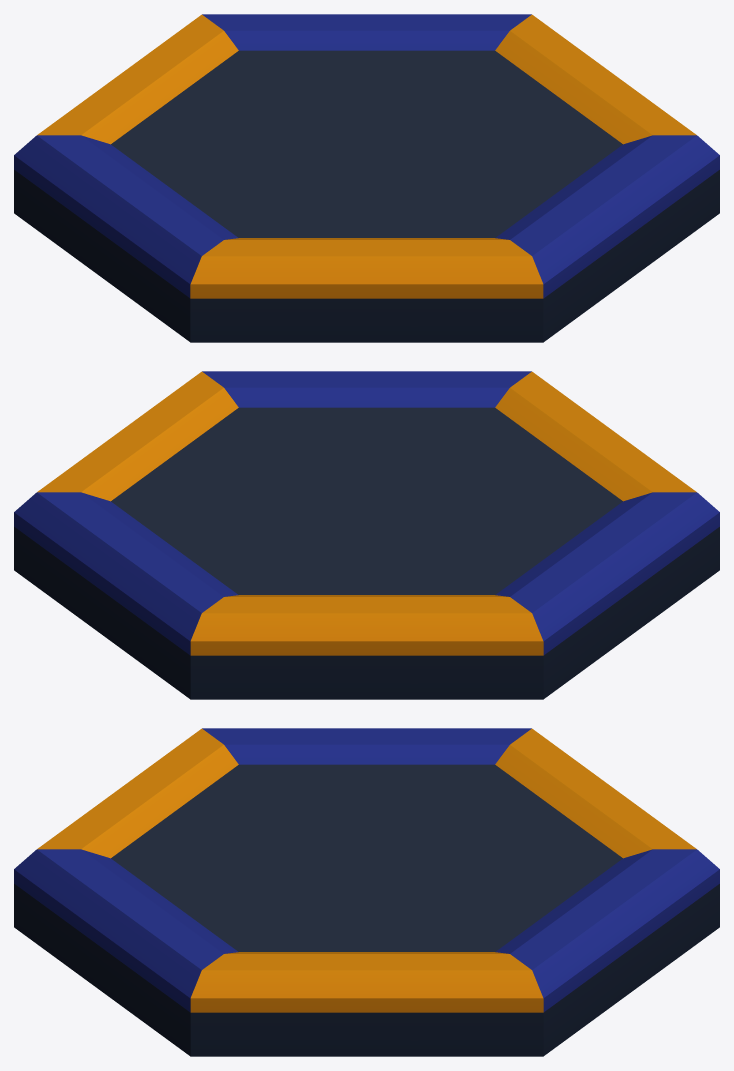
File: Hexagon 06.FBX
3 views of the same model, one above another, from view 1: azimuth 30°, elevation 25°; view 2: azimuth 150°, elevation 25°; view 3: azimuth 270°, elevation 25° (orthographic).
Visible parts, largest first — view 1: Hexagon 06; view 2: Hexagon 06; view 3: Hexagon 06.
Part boxes in pixels (x1=…): Hexagon 06: x1=14, y1=14, x2=719, y2=342; Hexagon 06: x1=14, y1=371, x2=719, y2=699; Hexagon 06: x1=14, y1=728, x2=719, y2=1056.
Bounding box in the file's own units: 280 × 39.42 × 323.
1 material, 1 textured.
